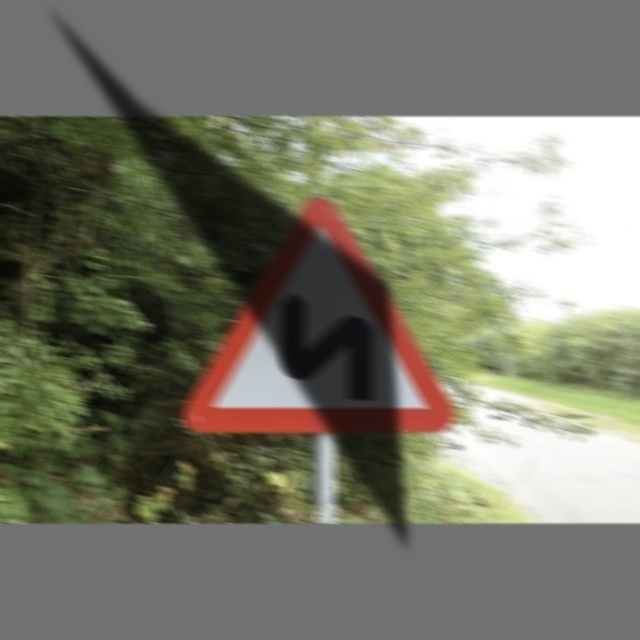Left_Reverse_Bend: (188, 197, 457, 438)
